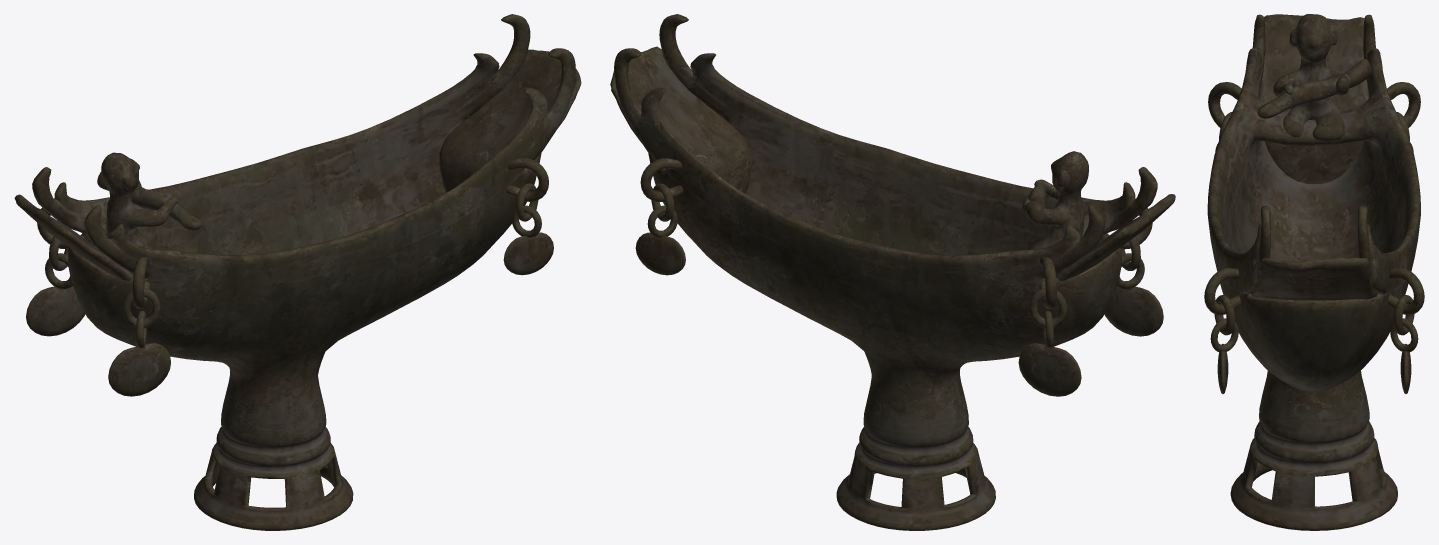
File: boatL.glb
3 renders of one model, left to right at view 1: azimuth 30°, elevation 25°; view 2: azimuth 150°, elevation 25°; view 3: azimuth 270°, elevation 25°, orthographic. The views are drawn at different scales.
Parts seen in each view (by area): view 1: SM_24AR0001_SM_24AR0001_0; view 2: SM_24AR0001_SM_24AR0001_0; view 3: SM_24AR0001_SM_24AR0001_0.
Boxes of the visible parts, <box> form: SM_24AR0001_SM_24AR0001_0: <box>14,14,581,530</box>; SM_24AR0001_SM_24AR0001_0: <box>610,14,1175,530</box>; SM_24AR0001_SM_24AR0001_0: <box>1204,14,1424,530</box>.
Size of the model in its own units: 0.2319 by 0.1675 by 0.0792.
1 material, 1 textured.
